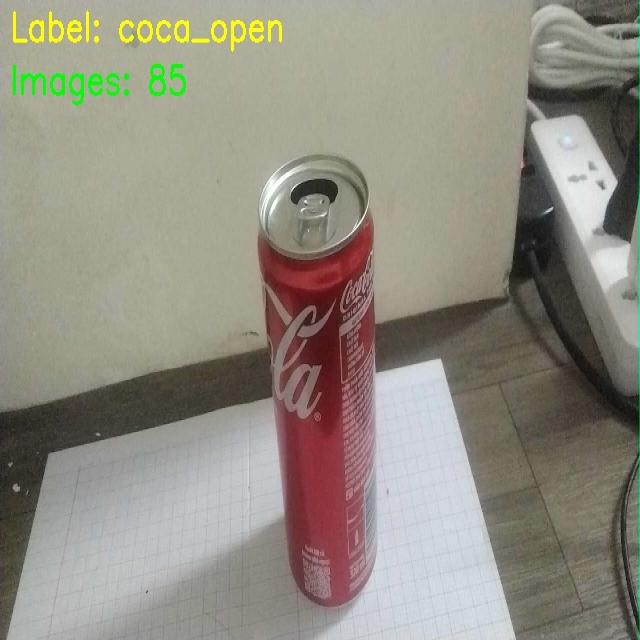Coca_open: (248, 152, 411, 624)
